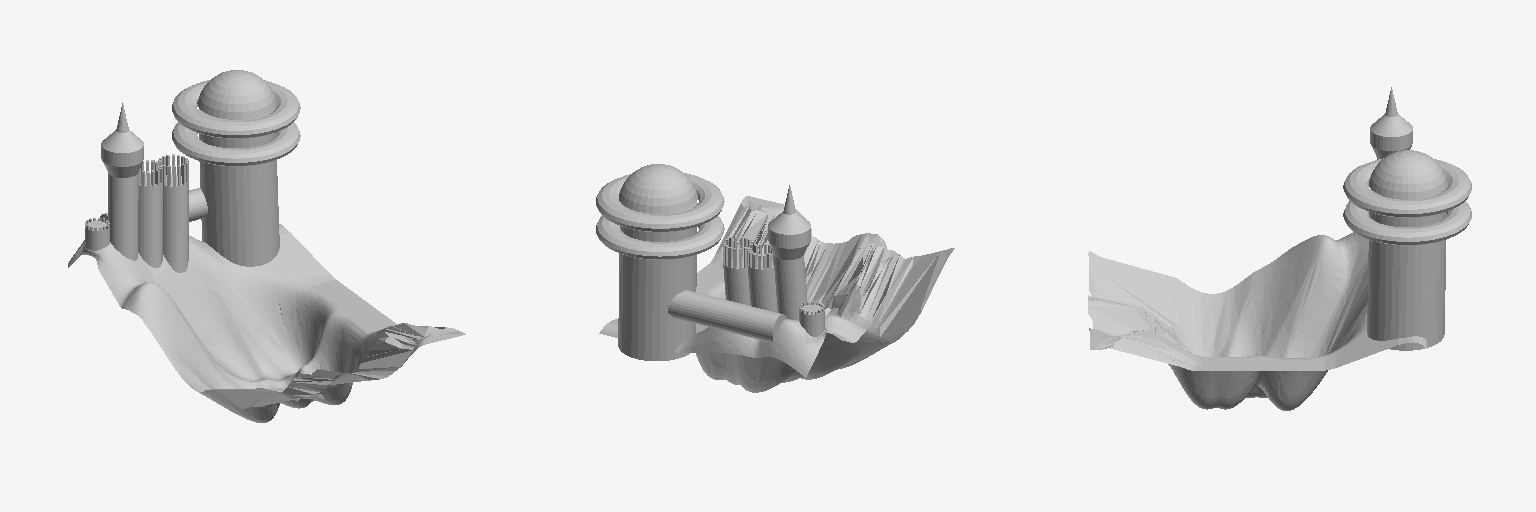
File: myland.obj
3 views of the same model, side by side, from view 1: azimuth 30°, elevation 25°; view 2: azimuth 150°, elevation 25°; view 3: azimuth 270°, elevation 25° (orthographic).
Parts seen in each view (by area): view 1: Plane, Cylinder; view 2: Plane, Cylinder; view 3: Plane.
Part boxes in pixels (left/top/right/bottom): Plane: left=68, top=70, right=465, bottom=422; Cylinder: left=100, top=188, right=207, bottom=221; Plane: left=596, top=164, right=954, bottom=392; Cylinder: left=668, top=290, right=786, bottom=342; Plane: left=1088, top=87, right=1471, bottom=410.
Size of the model in its own units: 17.46 by 18.96 by 25.13.